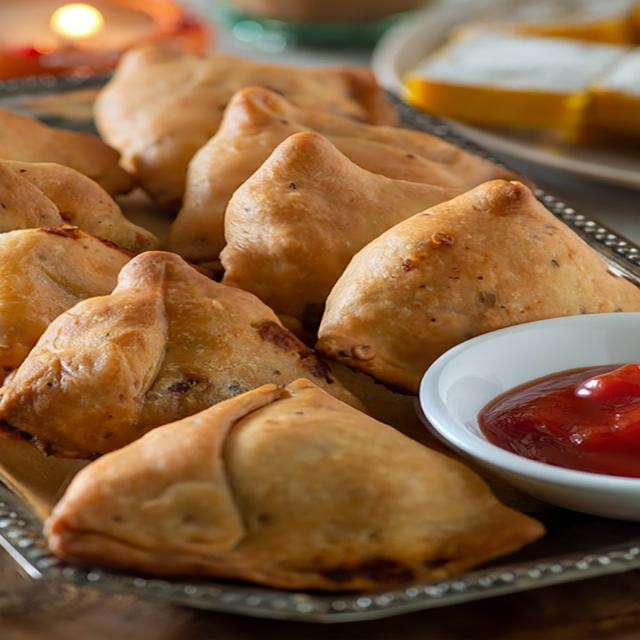SAMOSA: (62, 381, 552, 584), (319, 182, 639, 389), (172, 85, 498, 284), (3, 248, 309, 452), (223, 129, 465, 319), (95, 49, 376, 180), (1, 222, 127, 370), (0, 160, 165, 249), (0, 90, 95, 178)
